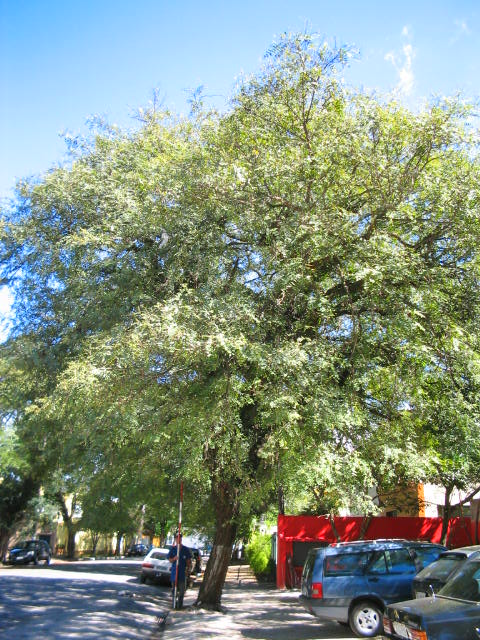crown: (3, 19, 477, 516)
stem: (193, 503, 245, 606)
stick: (167, 483, 188, 611)
tree: (1, 17, 477, 606)
